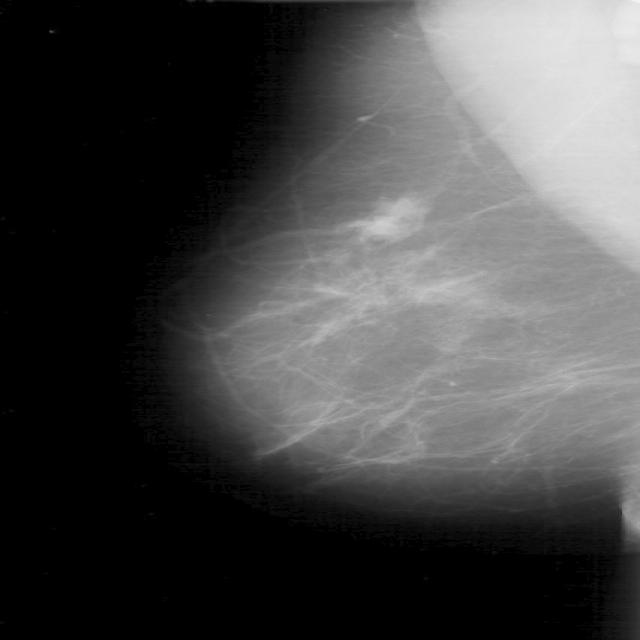tumour: (340, 192, 429, 241)
